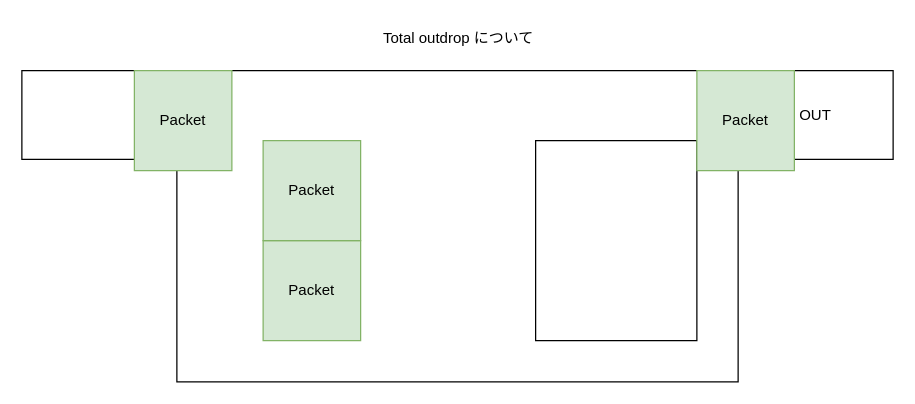
Some shapes in this 915 by 404 pixel diagram are drawn without their labels. The shapes that lost their labels are listed below. From the top down, each one's centre as x and y in pixels, then its label:
the point at 99,114: IN
the point at 615,240: Que
